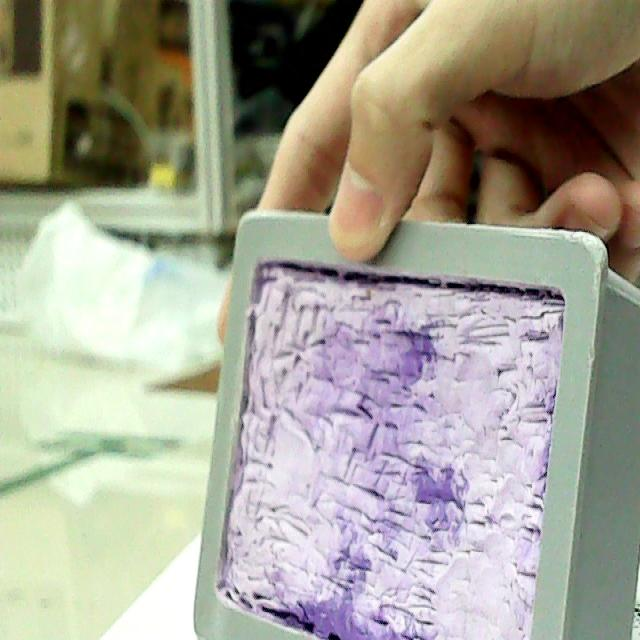block: (189, 209, 640, 640)
